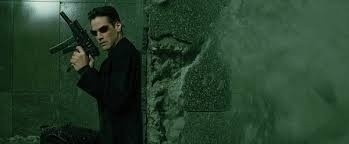pistol: (50, 9, 99, 69)
